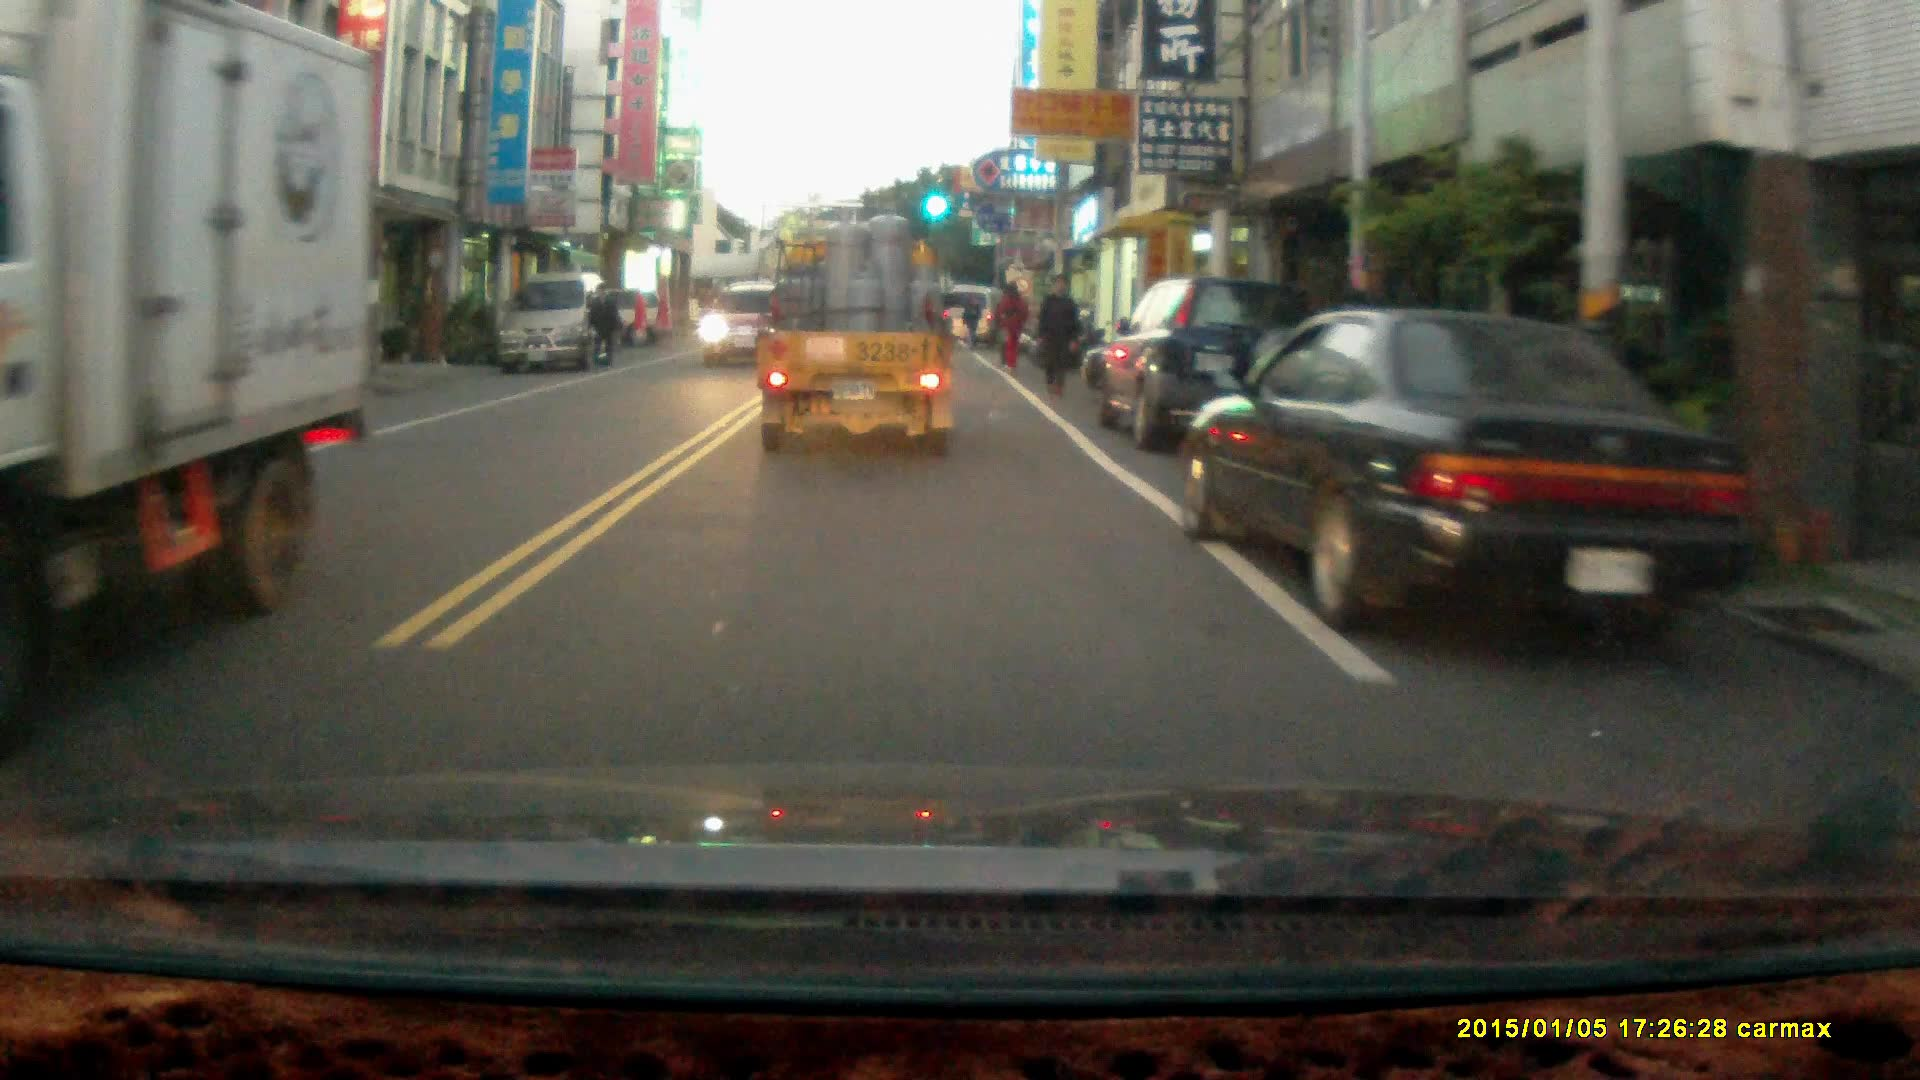pedestrian: (1031, 269, 1079, 396), (991, 278, 1028, 370), (584, 280, 619, 365), (961, 290, 982, 344)
vehicle: (1, 6, 369, 682), (1182, 306, 1766, 635), (752, 193, 961, 463), (1099, 275, 1323, 457), (498, 271, 615, 374), (695, 279, 780, 368)
